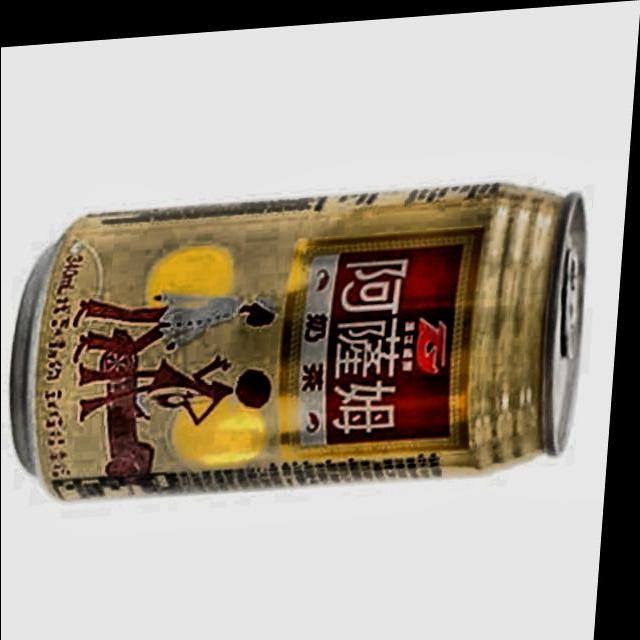Aluminum Can: (0, 165, 604, 516)
